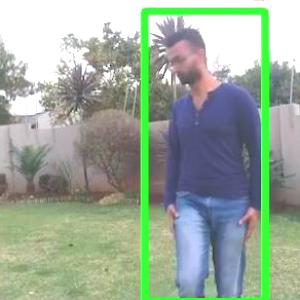follow: (158, 31, 266, 299)
